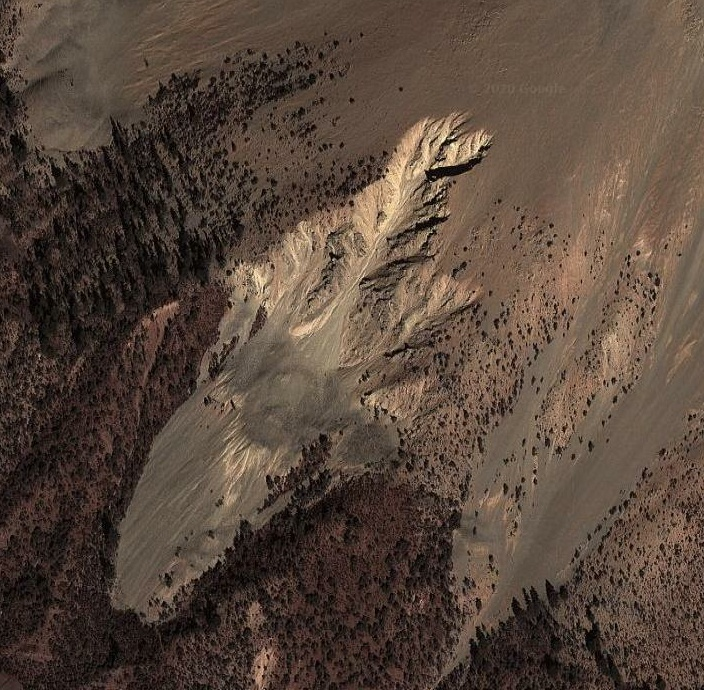slope: (106, 107, 491, 626)
